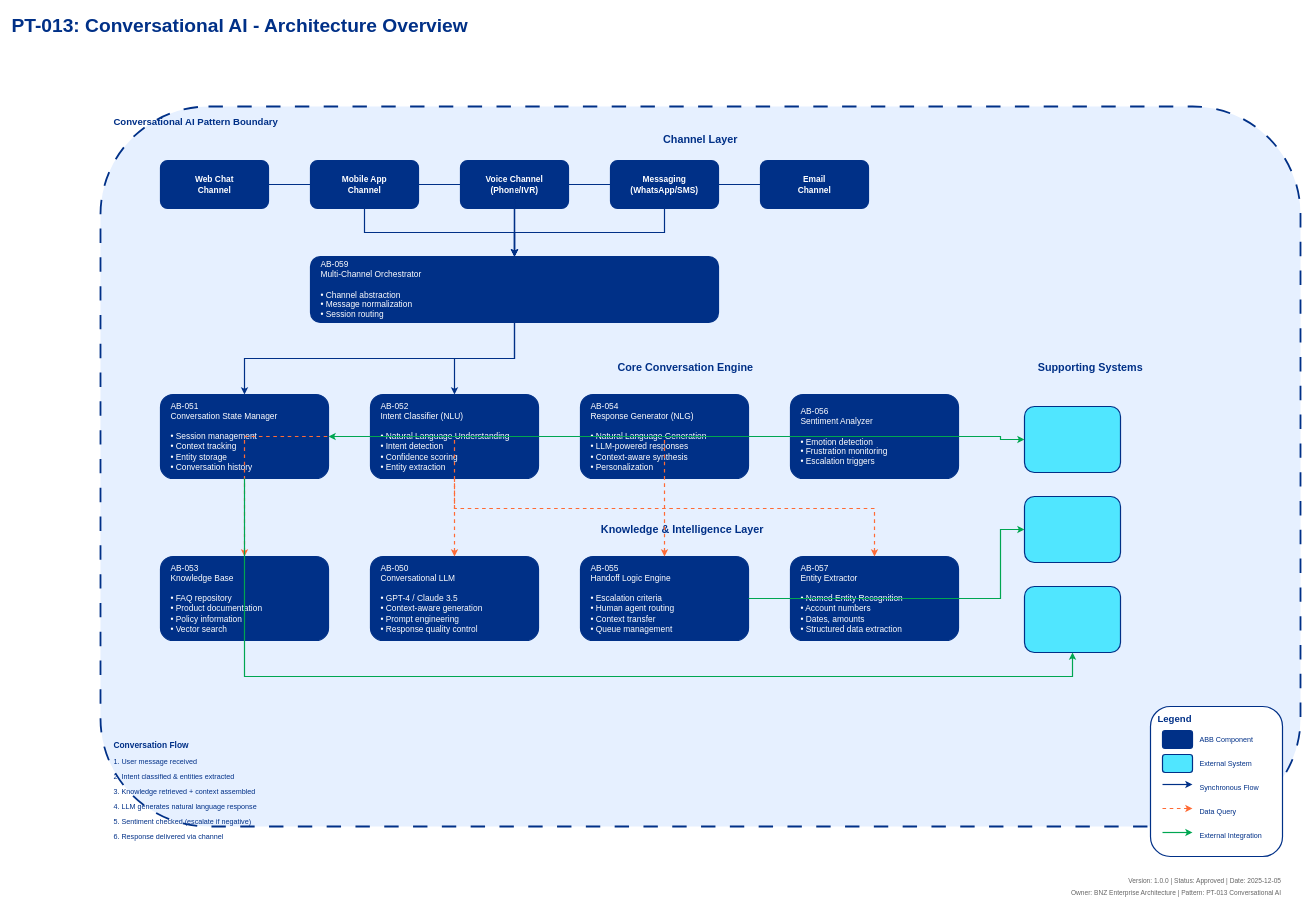
The diagram is 1312 pixels wide and 908 high, and some of its shapes have lost their labels. The centre of each missing label's shape, as x and y in pixels:
"Analytics Platform • Metrics • Containment • Quality" goes at (1072,619).
"Customer Profile / CRM • Account data • History • Preferences" goes at (1072,439).
"Human Agent Queue • Escalations • Context transfer • Live chat" goes at (1072,529).
